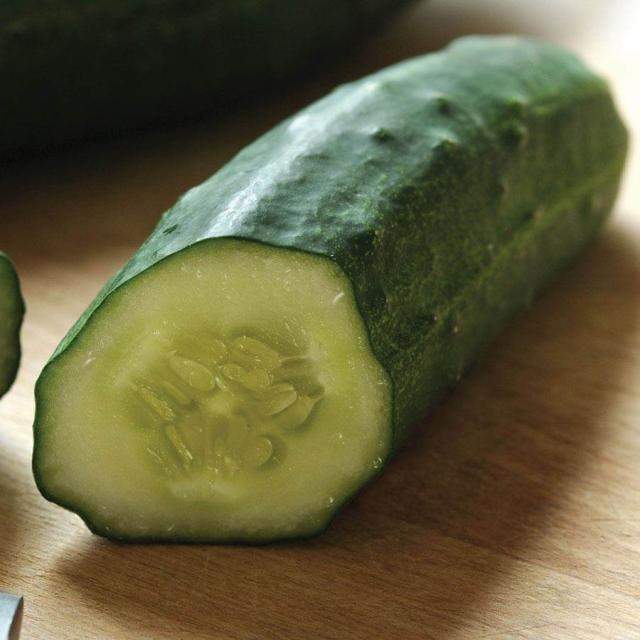Pickle: (33, 38, 627, 542)
